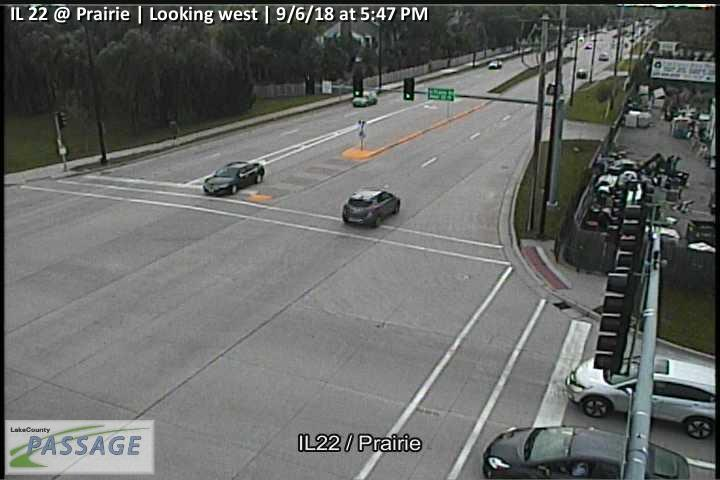SUV: (563, 354, 718, 440), (342, 188, 401, 228)
Sedan: (482, 425, 690, 480), (202, 160, 265, 196), (352, 90, 379, 107)
